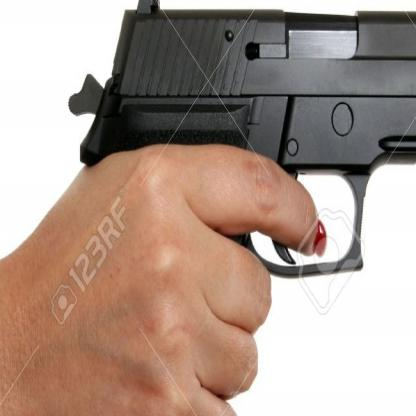gun: (59, 0, 415, 415)
